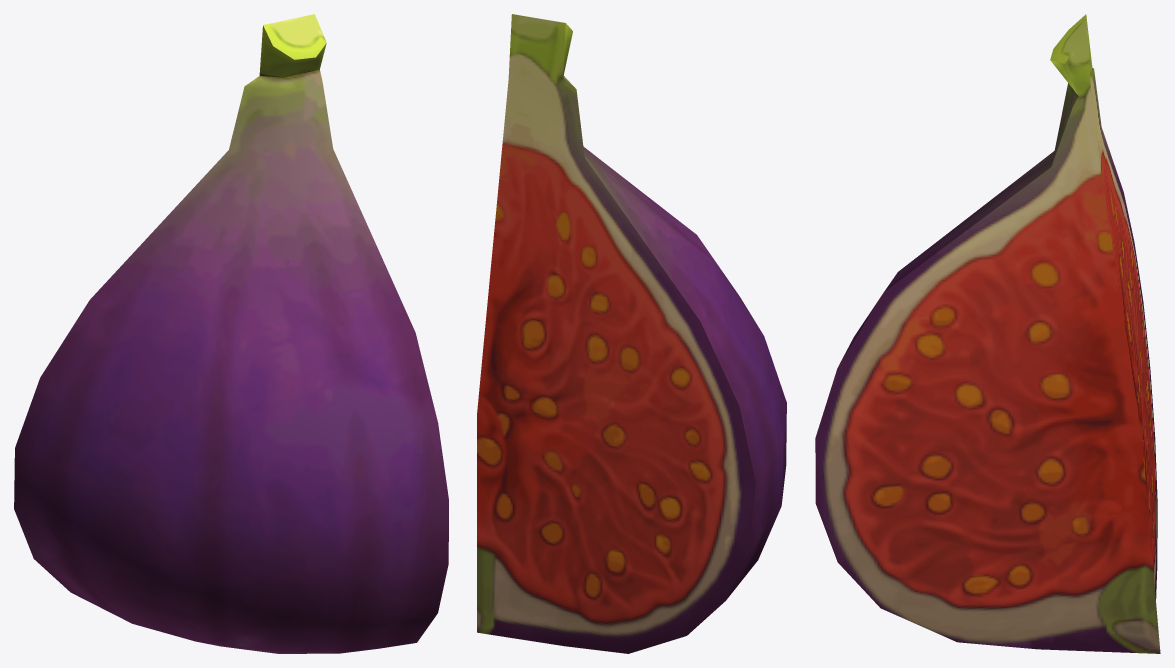
The model's file is SM_FigSliceA.fbx.
3 renders of one model, left to right at view 1: azimuth 30°, elevation 25°; view 2: azimuth 150°, elevation 25°; view 3: azimuth 270°, elevation 25°, orthographic. The views are drawn at different scales.
Visible parts, largest first — view 1: SM_FigSliceA; view 2: SM_FigSliceA; view 3: SM_FigSliceA.
Boxes of the visible parts, x1,y1,x2,y2 form: SM_FigSliceA: (14,14,448,653); SM_FigSliceA: (477,14,786,653); SM_FigSliceA: (815,14,1160,653).
Bounding box in the file's own units: 5.42 × 11.04 × 5.63.
